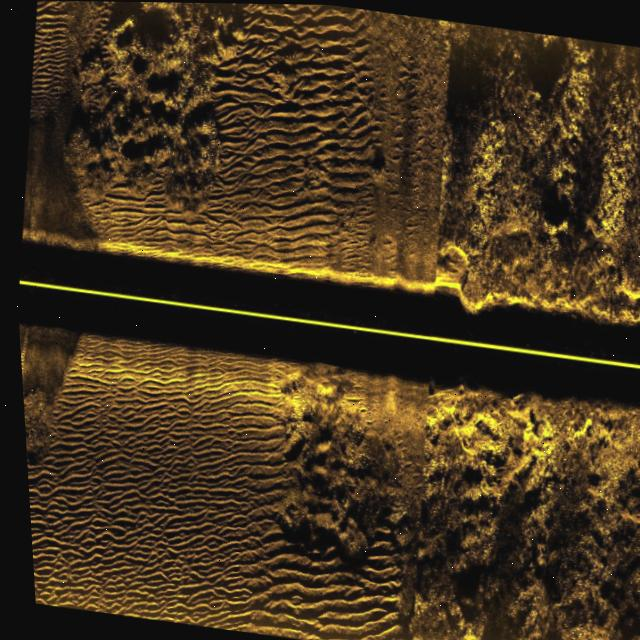mine: (504, 388, 518, 402)
